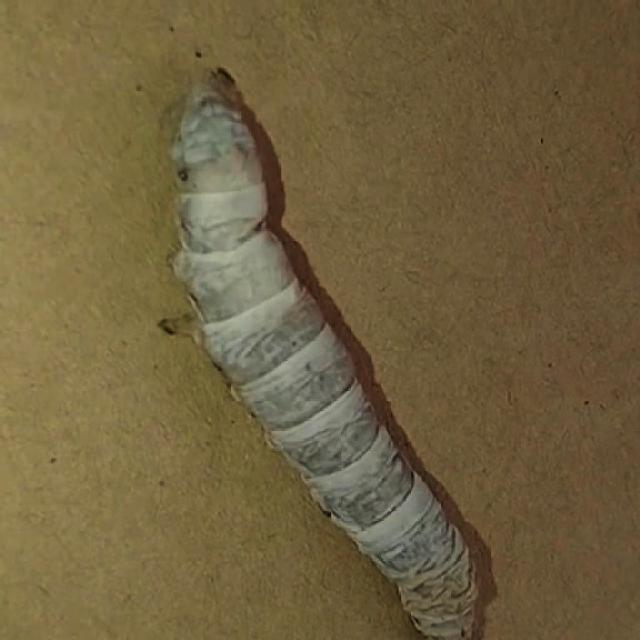Grasserie: (141, 61, 502, 630)
